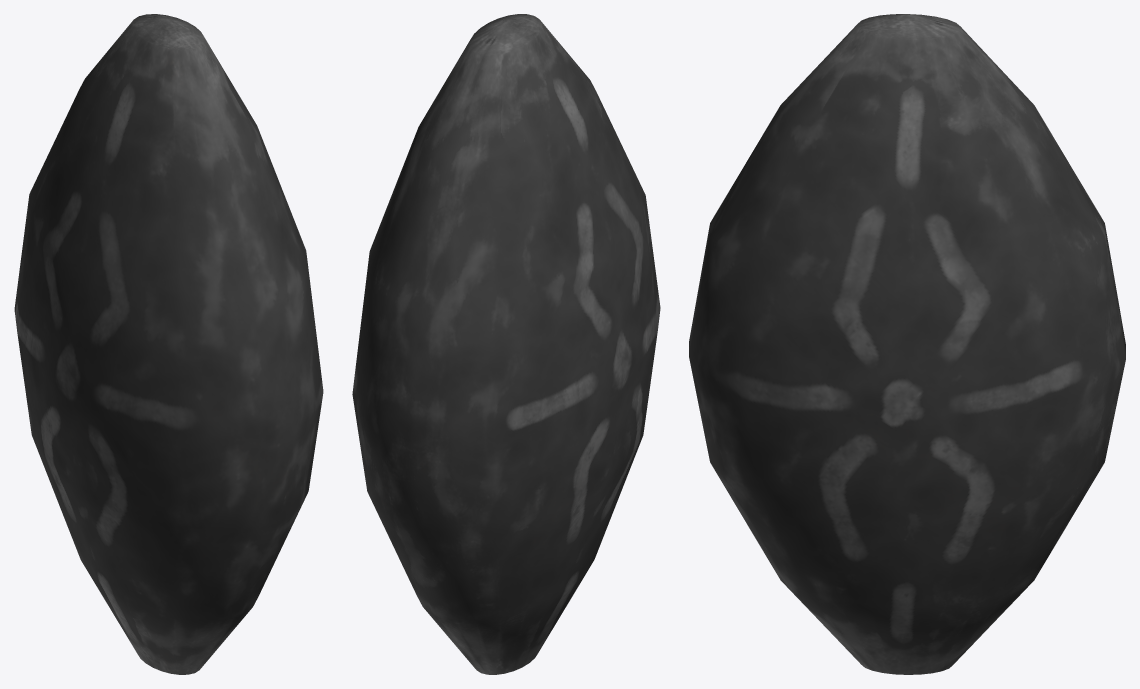
The model's file is sling_lead_bullet_exp5.FBX.
The picture shows the model from 3 angles, left to right: view 1: azimuth 30°, elevation 25°; view 2: azimuth 150°, elevation 25°; view 3: azimuth 270°, elevation 25°; orthographic projection. The views are drawn at different scales.
Parts seen in each view (by area): view 1: sling_lead_bullet_exp5; view 2: sling_lead_bullet_exp5; view 3: sling_lead_bullet_exp5.
Part boxes in pixels (left/top/right/bottom): sling_lead_bullet_exp5: left=14, top=14, right=323, bottom=674; sling_lead_bullet_exp5: left=352, top=14, right=660, bottom=674; sling_lead_bullet_exp5: left=689, top=14, right=1125, bottom=674.
Size of the model in its own units: 4.56 by 12.66 by 7.63.
